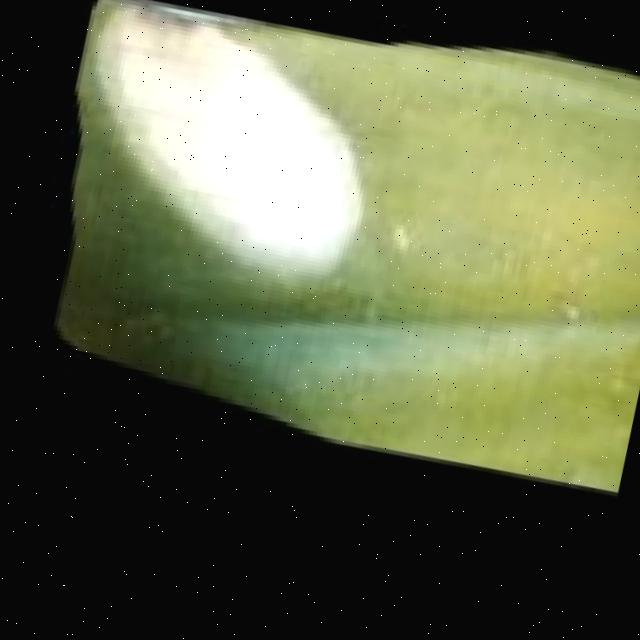mite: (116, 296, 184, 355), (599, 331, 640, 422), (546, 294, 596, 337), (136, 312, 177, 350), (558, 304, 587, 332)
spots: (11, 0, 640, 504)
